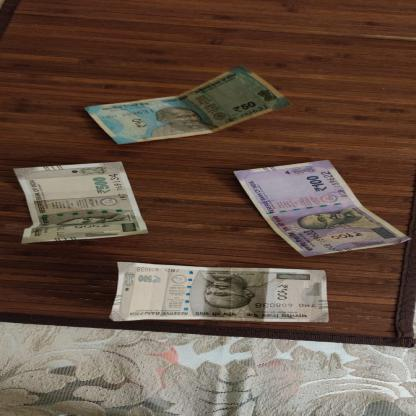New100Front: (233, 160, 415, 258)
New500Front: (108, 262, 331, 324), (11, 161, 151, 245)
New50Front: (82, 65, 292, 145)
